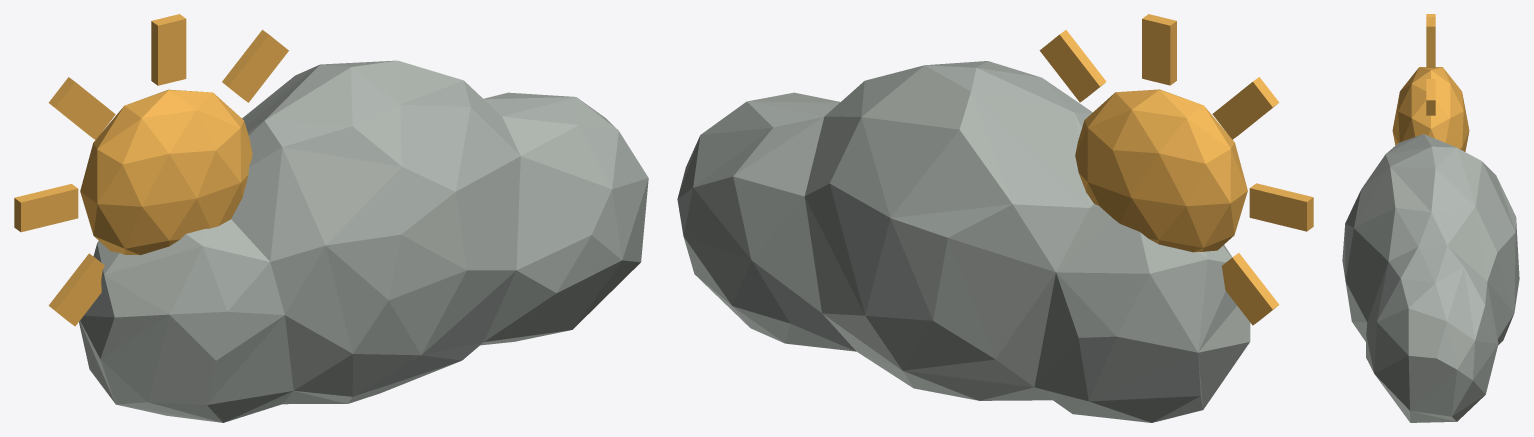
File: SM_Icon_Weather_CloudSun_01.fbx
3 views of the same model, side by side, from view 1: azimuth 30°, elevation 25°; view 2: azimuth 150°, elevation 25°; view 3: azimuth 270°, elevation 25° (orthographic). The views are drawn at different scales.
Visible parts, largest first — view 1: SM_Icon_Weather_CloudSun_01; view 2: SM_Icon_Weather_CloudSun_01; view 3: SM_Icon_Weather_CloudSun_01.
Part boxes in pixels (left/top/right/bottom): SM_Icon_Weather_CloudSun_01: left=14, top=14, right=648, bottom=422; SM_Icon_Weather_CloudSun_01: left=677, top=14, right=1313, bottom=422; SM_Icon_Weather_CloudSun_01: left=1342, top=14, right=1519, bottom=422.
Bounding box in the file's own units: 89.48 × 57.22 × 32.1.
